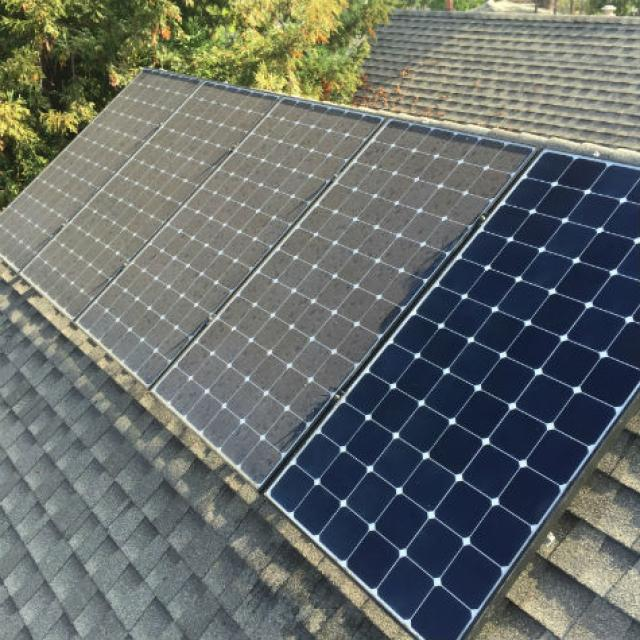clean-solar-panel: (268, 152, 638, 639)
